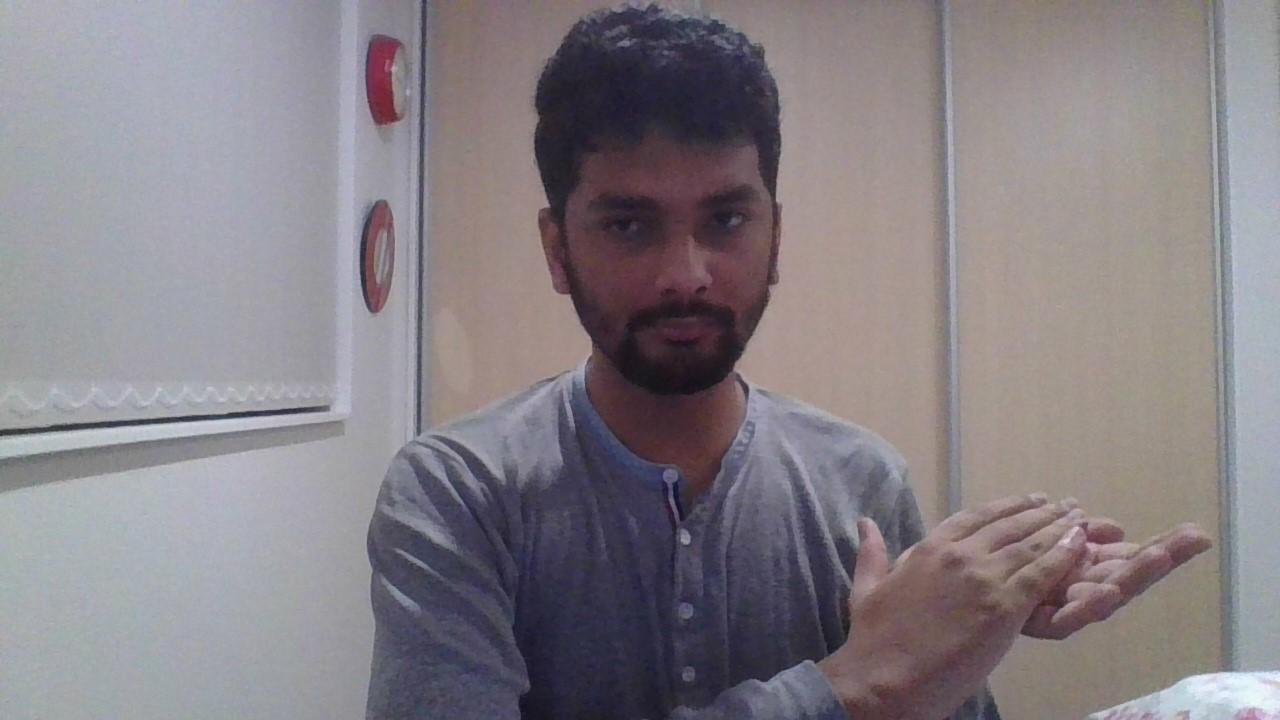clear: (846, 492, 1212, 720)
